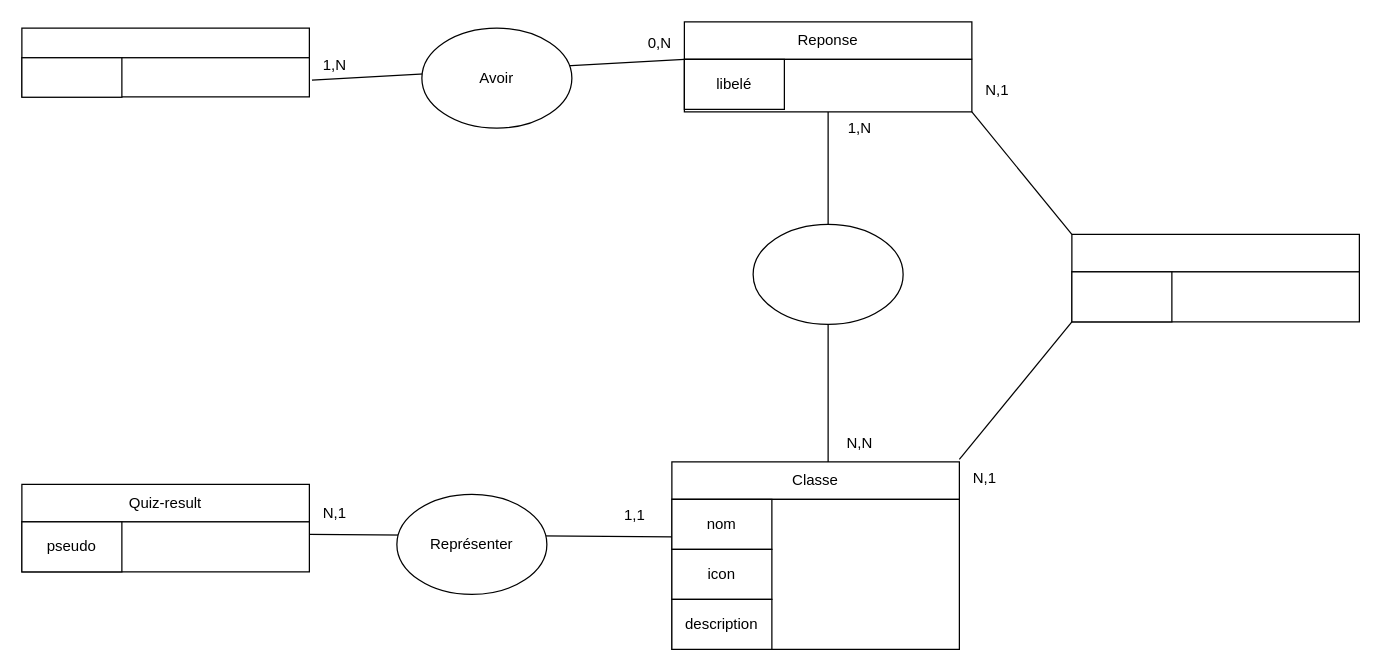
This 1381x671 diagram has some shape labels left out. The box of each missing label's shape, as (x1, y1, x2, y2) in pixels:
ClassScore: (1071, 233, 1359, 272)
content: (21, 56, 122, 97)
Posseder: (752, 223, 903, 324)
Question: (21, 27, 309, 58)
score: (1071, 271, 1172, 322)
